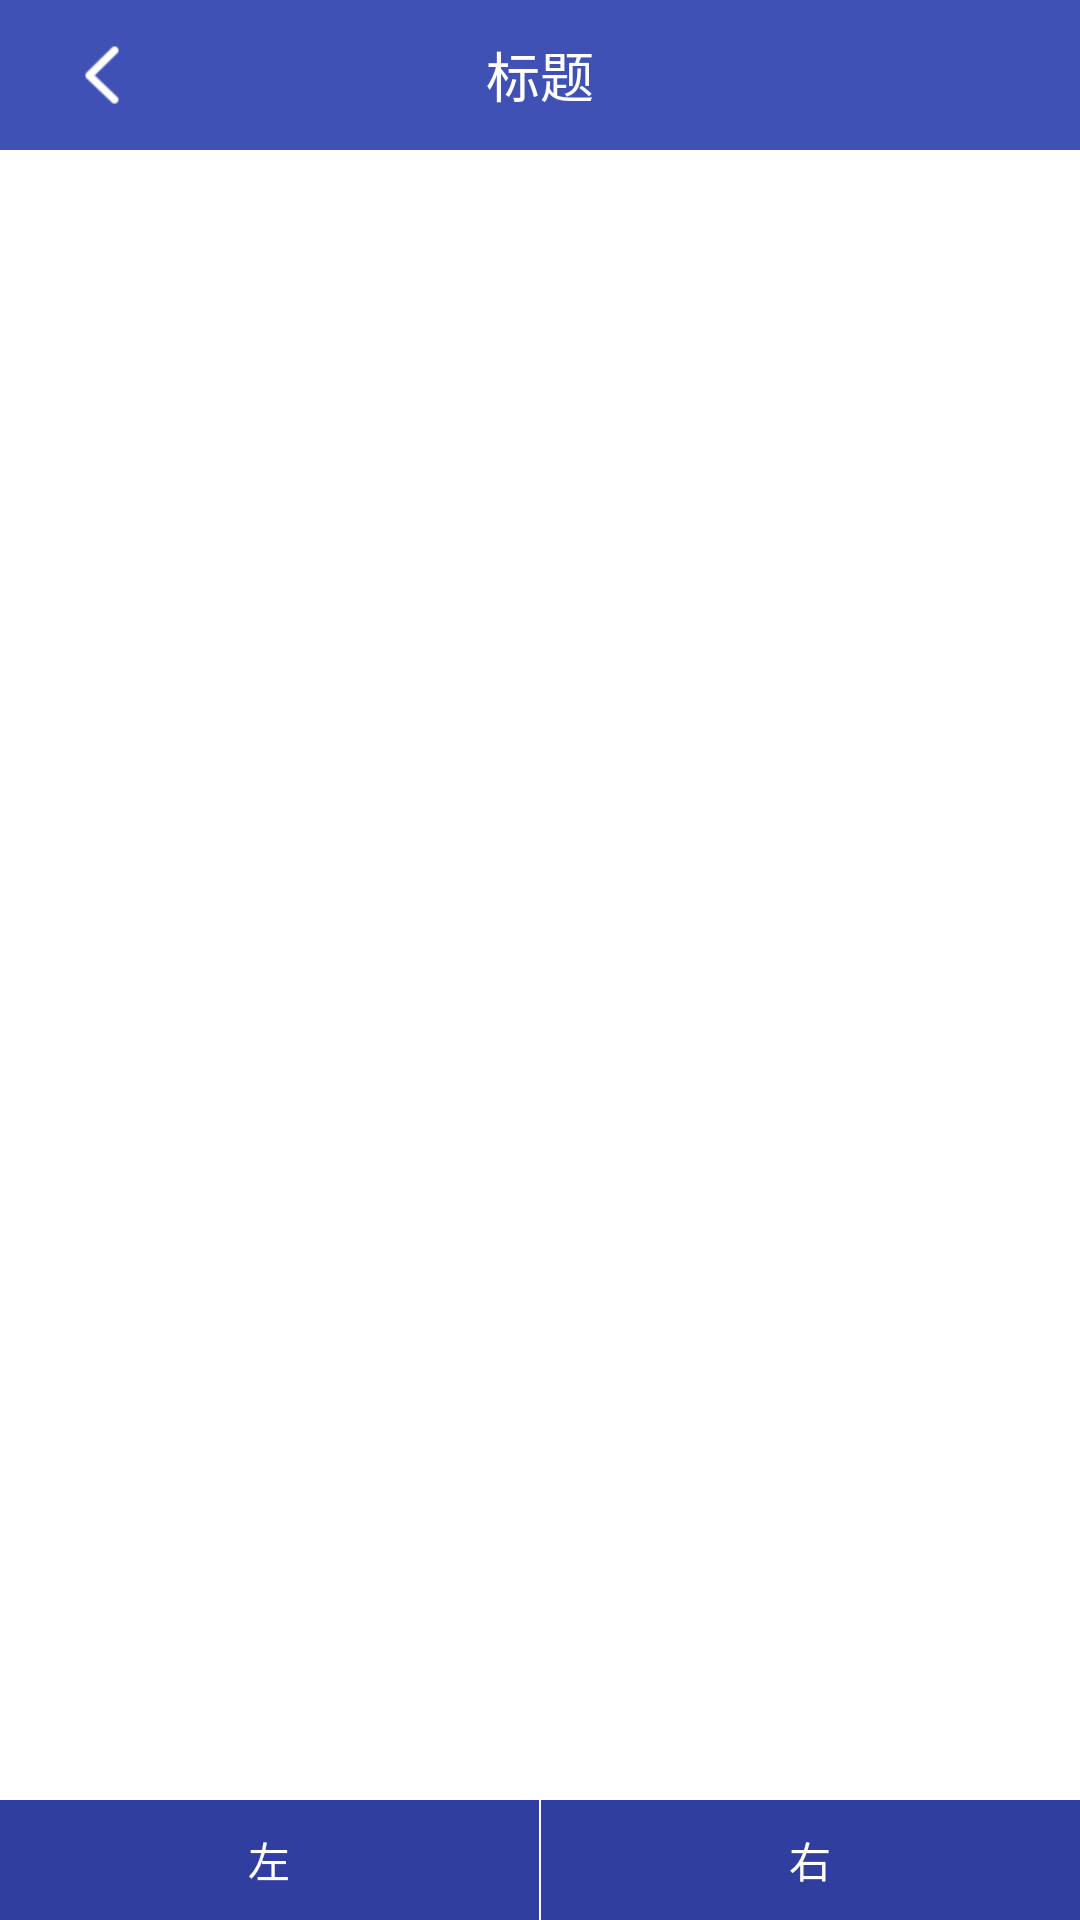

Where to tap for icons on this 1080w x 1920h app screen, as (x=x, y=y):
back: (x=102, y=75)
